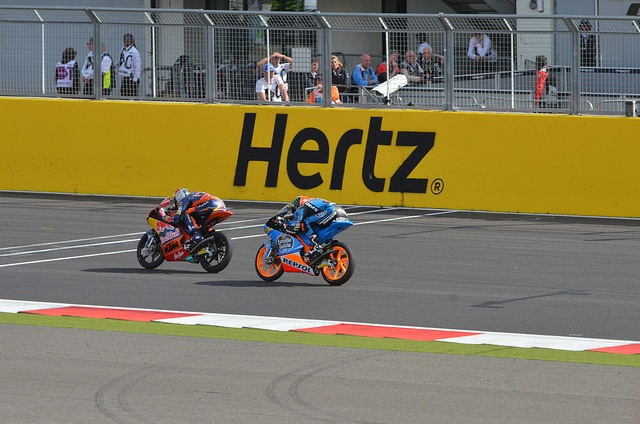non-vehicle: (255, 206, 356, 285), (136, 196, 233, 272)
